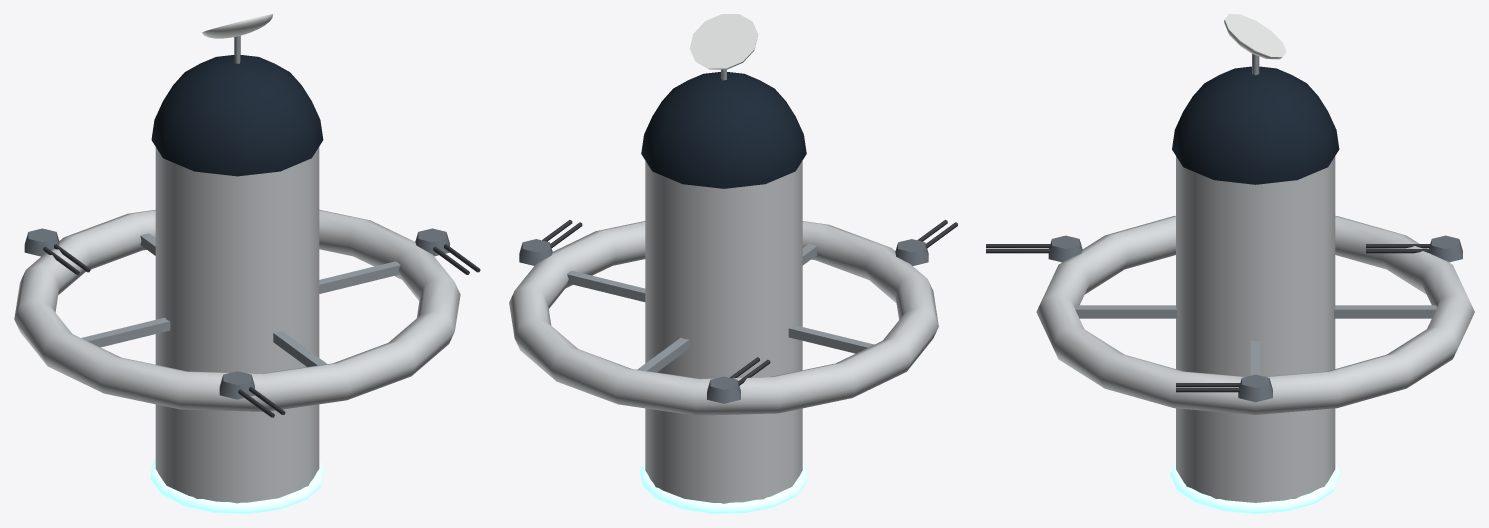
File: space_orbital_command_center_t2.glb
3 renders of one model, left to right at view 1: azimuth 30°, elevation 25°; view 2: azimuth 150°, elevation 25°; view 3: azimuth 270°, elevation 25°, orthographic. The views are drawn at different scales.
Visible parts, largest first — view 1: body, ring, turret_1, turret_2, turret_0, antenna_0; view 2: body, ring, antenna_0, turret_2, turret_1, turret_0; view 3: body, ring, antenna_0, turret_0, turret_1, turret_2.
Part boxes in pixels (x1=…): body: x1=150, y1=55, x2=324, y2=513; ring: x1=14, y1=209, x2=460, y2=411; turret_1: x1=219, y1=371, x2=285, y2=417; turret_2: x1=24, y1=228, x2=90, y2=274; turret_0: x1=415, y1=228, x2=480, y2=274; antenna_0: x1=202, y1=14, x2=272, y2=63; body: x1=640, y1=72, x2=807, y2=513; ring: x1=509, y1=221, x2=938, y2=415; antenna_0: x1=689, y1=14, x2=758, y2=80; turret_2: x1=707, y1=357, x2=770, y2=403; turret_1: x1=895, y1=219, x2=957, y2=265; turret_0: x1=519, y1=220, x2=582, y2=265; body: x1=1170, y1=66, x2=1341, y2=513; ring: x1=1036, y1=216, x2=1474, y2=414; antenna_0: x1=1224, y1=14, x2=1286, y2=75; turret_0: x1=1176, y1=374, x2=1272, y2=402; turret_1: x1=986, y1=235, x2=1082, y2=262; turret_2: x1=1366, y1=235, x2=1462, y2=262.
Size of what is drawn, in the model's own units: 23 by 25.5 by 24.53.
